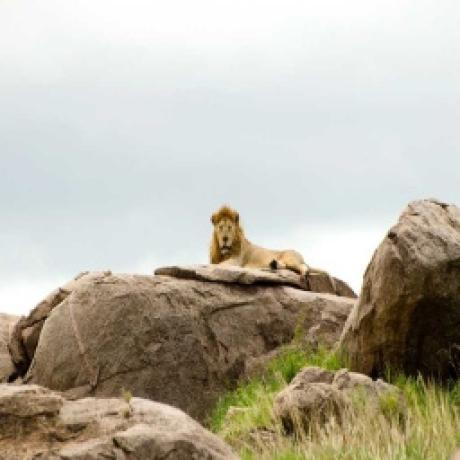Lion: (205, 200, 309, 278)
